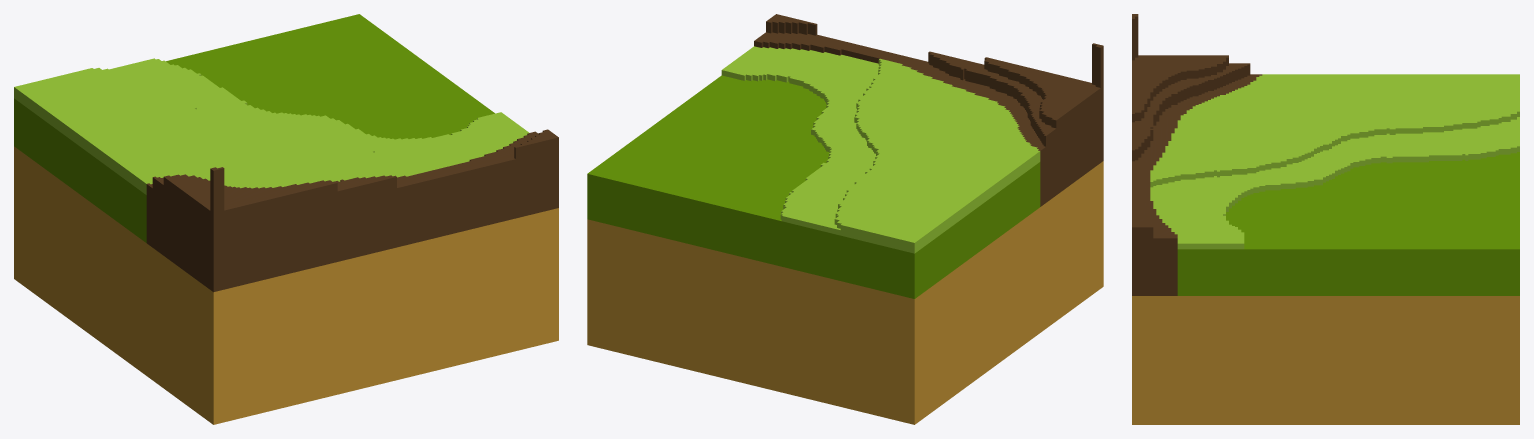
3 views of the same model, side by side, from view 1: azimuth 30°, elevation 25°; view 2: azimuth 150°, elevation 25°; view 3: azimuth 270°, elevation 25° (orthographic). The views are drawn at different scales.
Visible parts, largest first — view 1: 10O; view 2: 10O; view 3: 10O.
Boxes of the visible parts, bbox=[...] form: 10O: bbox=[14, 14, 558, 424]; 10O: bbox=[587, 14, 1103, 424]; 10O: bbox=[1132, 14, 1519, 424].
Bounding box in the file's own units: 12.8 × 9 × 12.8.
Materials: 1 (1 with a texture image).
